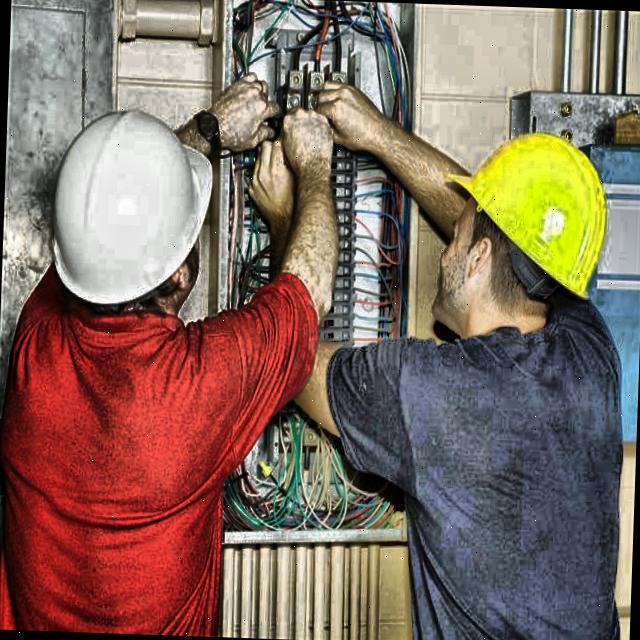helmet: (14, 84, 245, 369), (416, 90, 640, 379)
